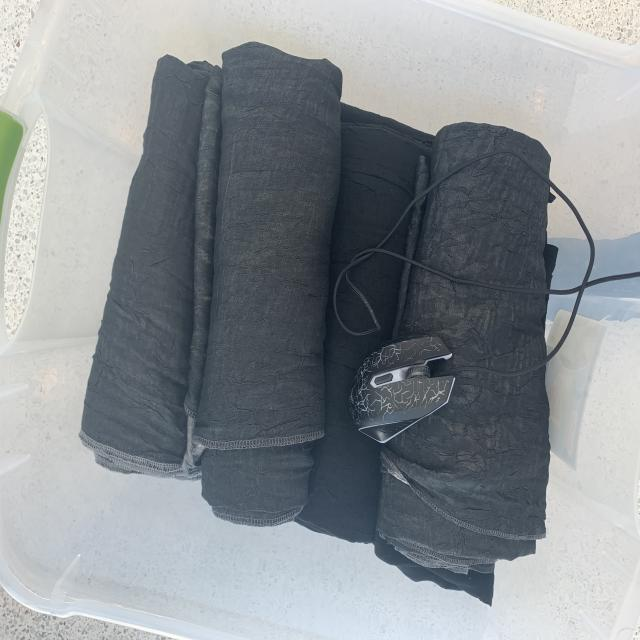Mouse: (342, 327, 463, 456)
